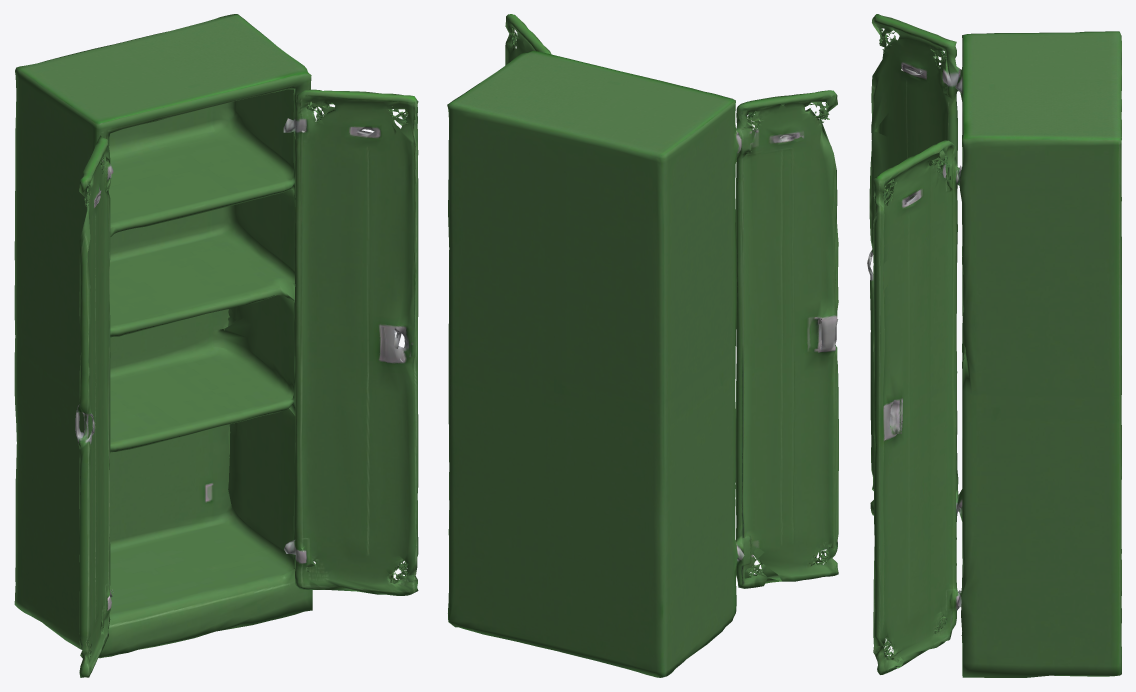
Rendered from tripo_convert_5fa9842a-6bba-459e-bb54-32ca3604793b.fbx.
3 renders of one model, left to right at view 1: azimuth 30°, elevation 25°; view 2: azimuth 150°, elevation 25°; view 3: azimuth 270°, elevation 25°, orthographic. The views are drawn at different scales.
Parts seen in each view (by area): view 1: tripo_node_5fa9842a; view 2: tripo_node_5fa9842a; view 3: tripo_node_5fa9842a.
Part boxes in pixels (left/top/right/bottom): tripo_node_5fa9842a: left=14, top=14, right=418, bottom=677; tripo_node_5fa9842a: left=447, top=14, right=838, bottom=677; tripo_node_5fa9842a: left=867, top=14, right=1121, bottom=677.
Bounding box in the file's own units: 0.6501 × 0.9778 × 0.418.
1 material, 1 textured.
